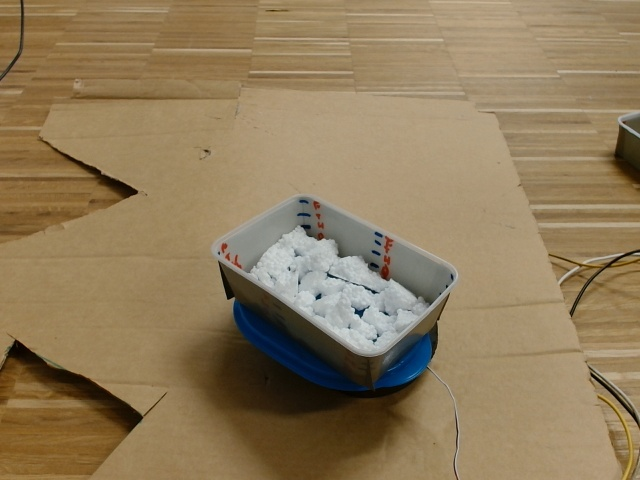Small_quarter: (209, 193, 460, 363)
